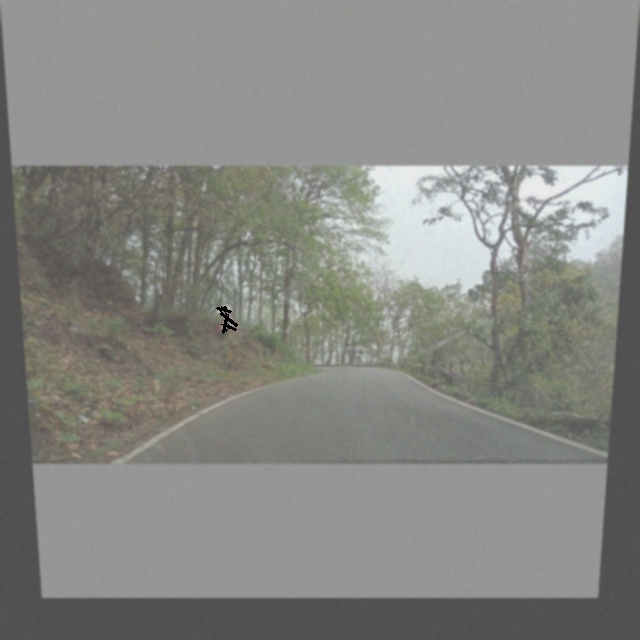Left_Hand_Curve: (217, 306, 241, 335)
